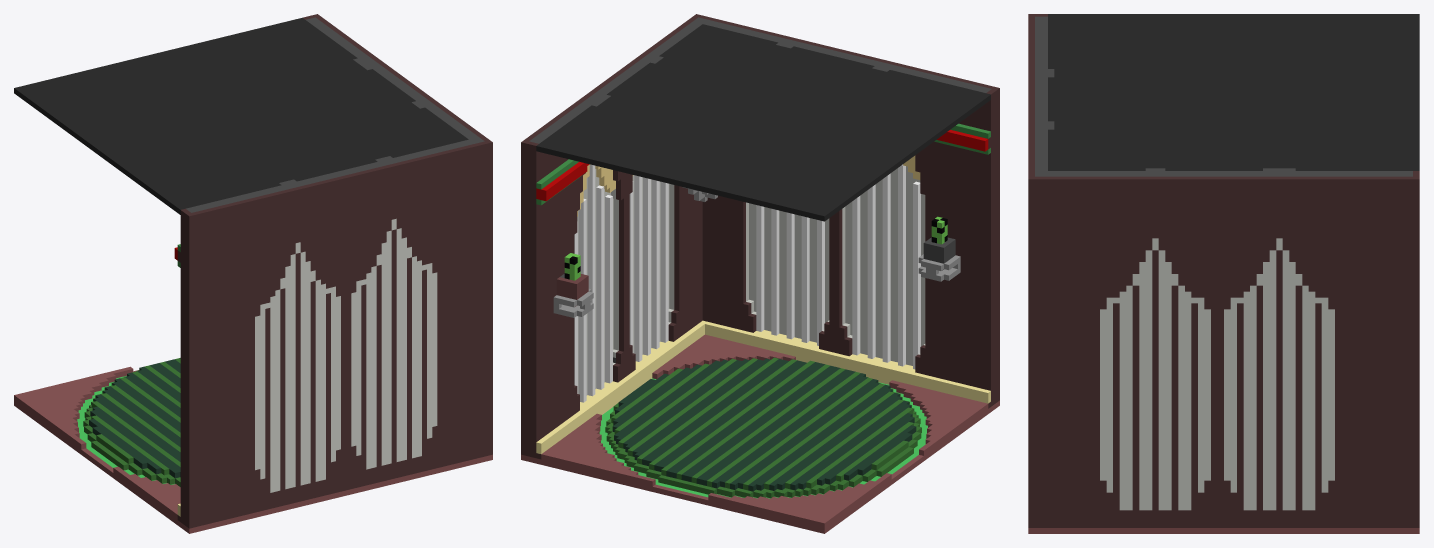
The model's file is restaurant-1.obj.
The picture shows the model from 3 angles, left to right: view 1: azimuth 30°, elevation 25°; view 2: azimuth 150°, elevation 25°; view 3: azimuth 270°, elevation 25°; orthographic projection. The views are drawn at different scales.
Bounding box in the file's own units: 6 × 6 × 6.
Materials: 1 (1 with a texture image).
